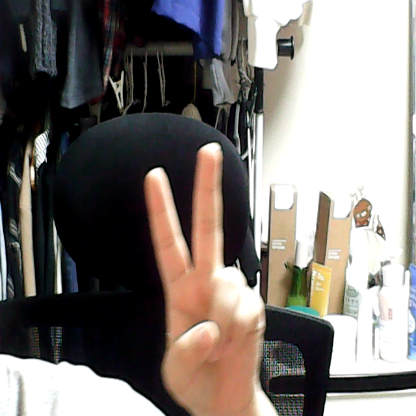Finger_2: (133, 135, 281, 404)
